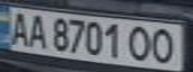0: (84, 19, 106, 56)
1: (103, 20, 127, 58)
7: (66, 17, 87, 54)
8: (48, 15, 69, 52)
A: (3, 9, 33, 46), (24, 11, 48, 50)
O: (145, 26, 184, 65), (124, 24, 157, 62)
